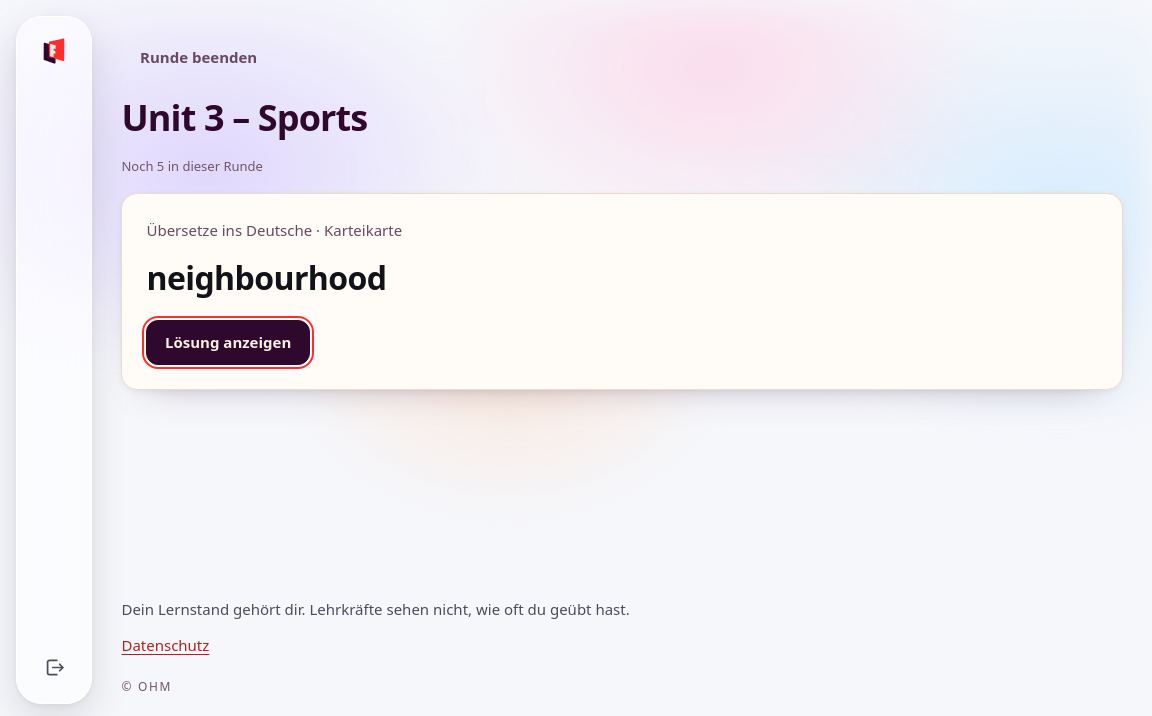
Test case: Üben im Portal › sagt es, wenn eine Antwort nicht gespeichert werden konnte
Expected: the text "Noch 5 in dieser Runde" is shown, [121, 157, 263, 175]
Click the button "Lösung anzeigen": (228, 342) [146, 320, 310, 365]
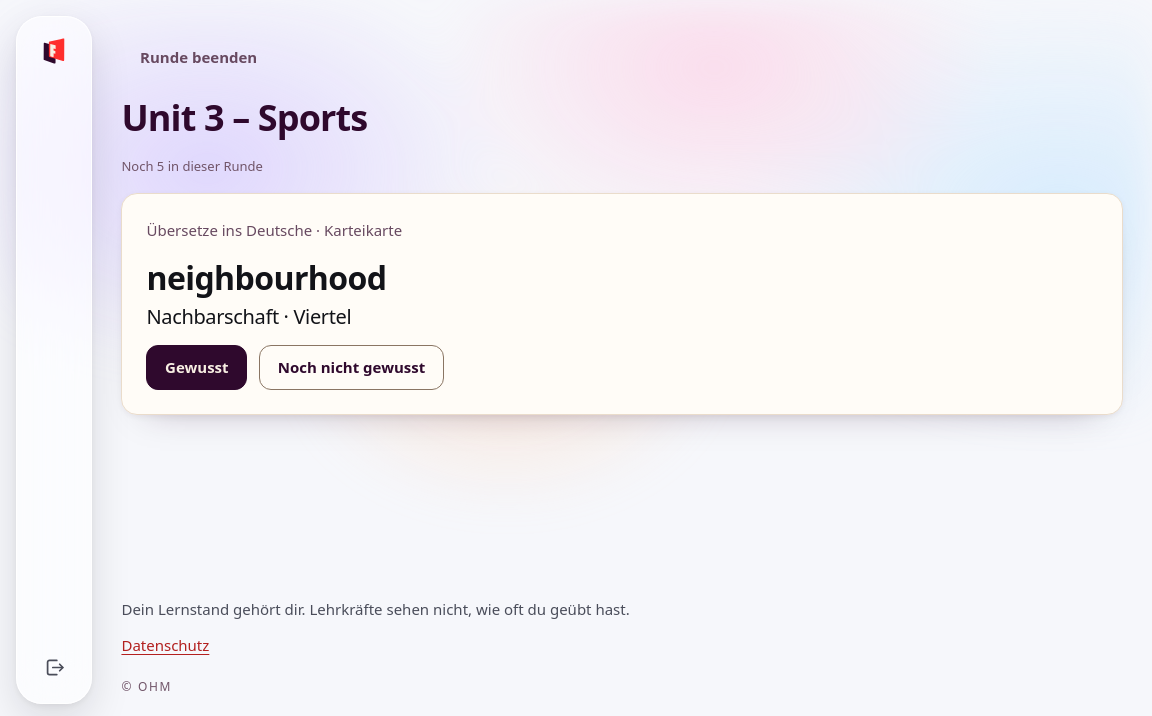
Click the button "Gewusst": (197, 367) [146, 345, 247, 390]
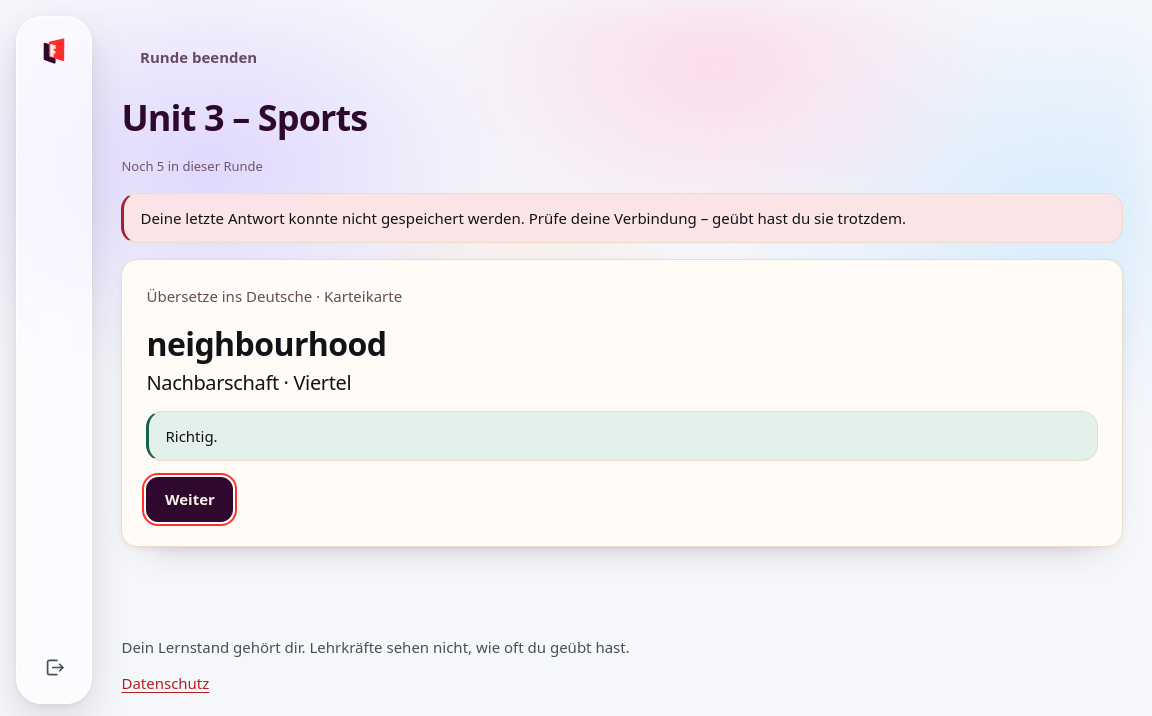
Now the text "konnte nicht gespeichert werden" is shown, box [140, 208, 906, 228]
